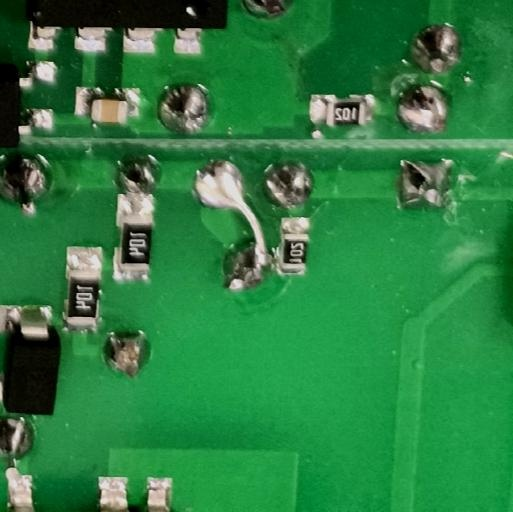chip-capacitor: (72, 85, 144, 124)
chip-resistor: (60, 244, 107, 335), (111, 191, 157, 282), (305, 92, 376, 127), (273, 215, 311, 277)
diode: (0, 301, 65, 416)
